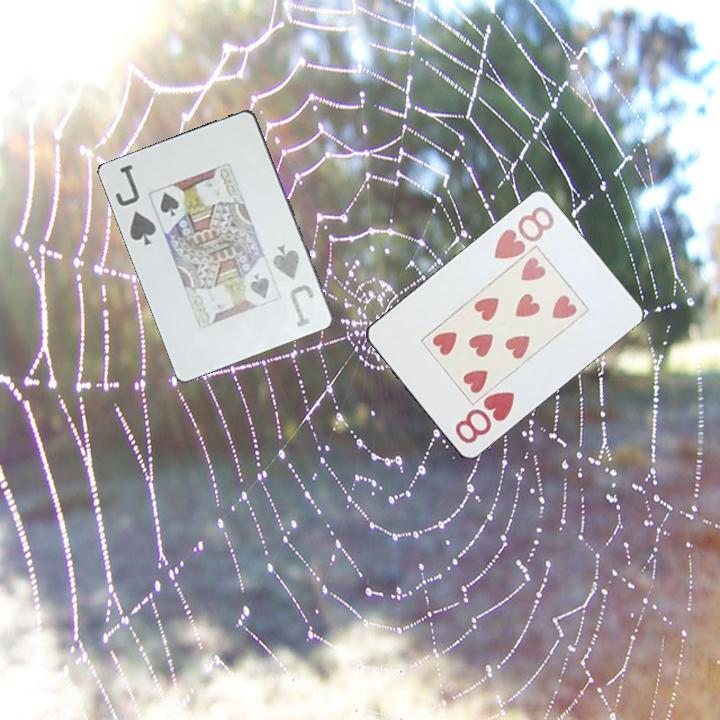8h: (491, 202, 557, 262), (451, 388, 518, 446)
Js: (112, 161, 161, 249), (269, 242, 317, 330)
